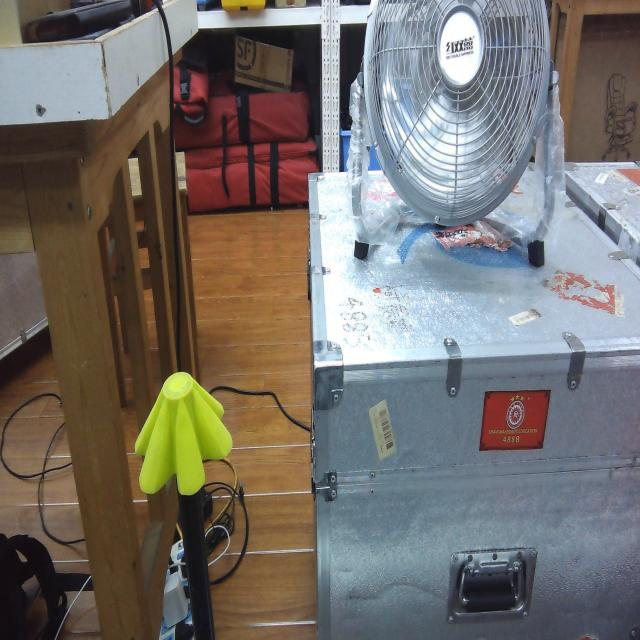Yellow-Stake-Head: (134, 371, 233, 496)
